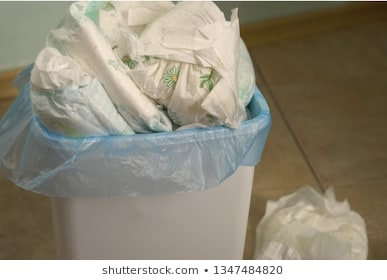paper: (131, 7, 265, 128), (60, 3, 177, 135), (26, 46, 134, 146)
plastic: (249, 177, 372, 260)
